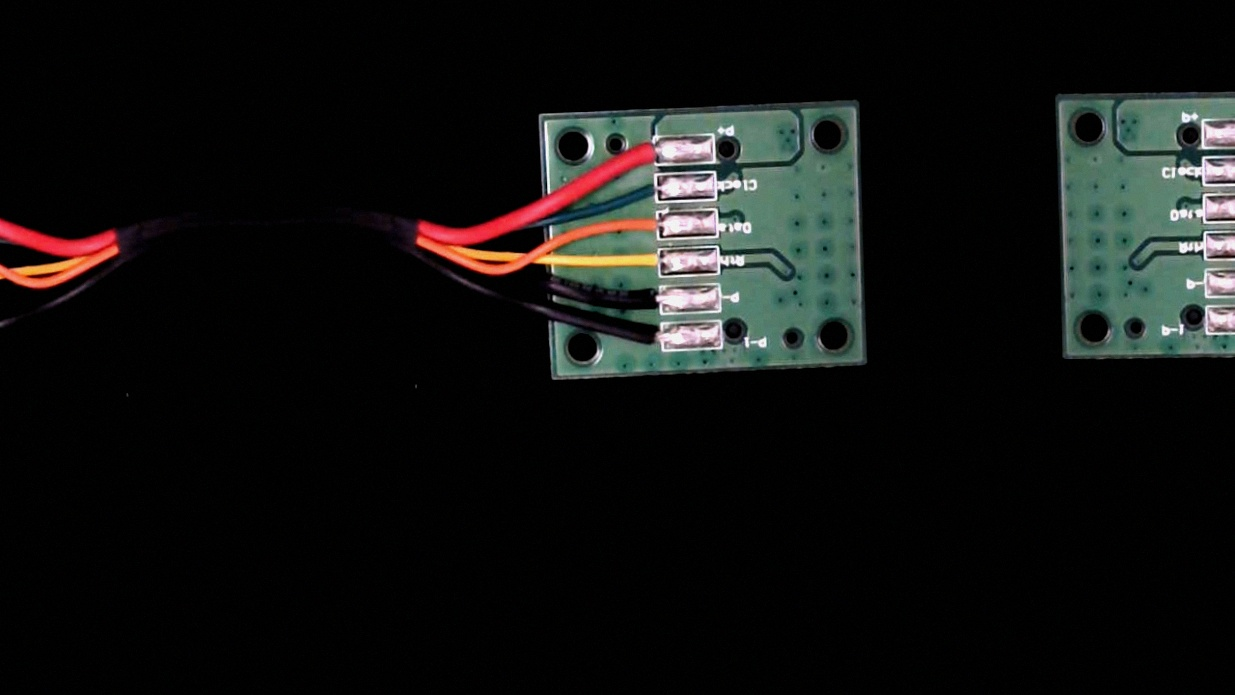Black: (612, 282, 674, 318)
Black1: (621, 323, 676, 354)
Green: (617, 174, 673, 208)
Orange: (615, 209, 675, 242)
Red: (609, 135, 667, 169)
Yellow: (613, 245, 673, 278)
